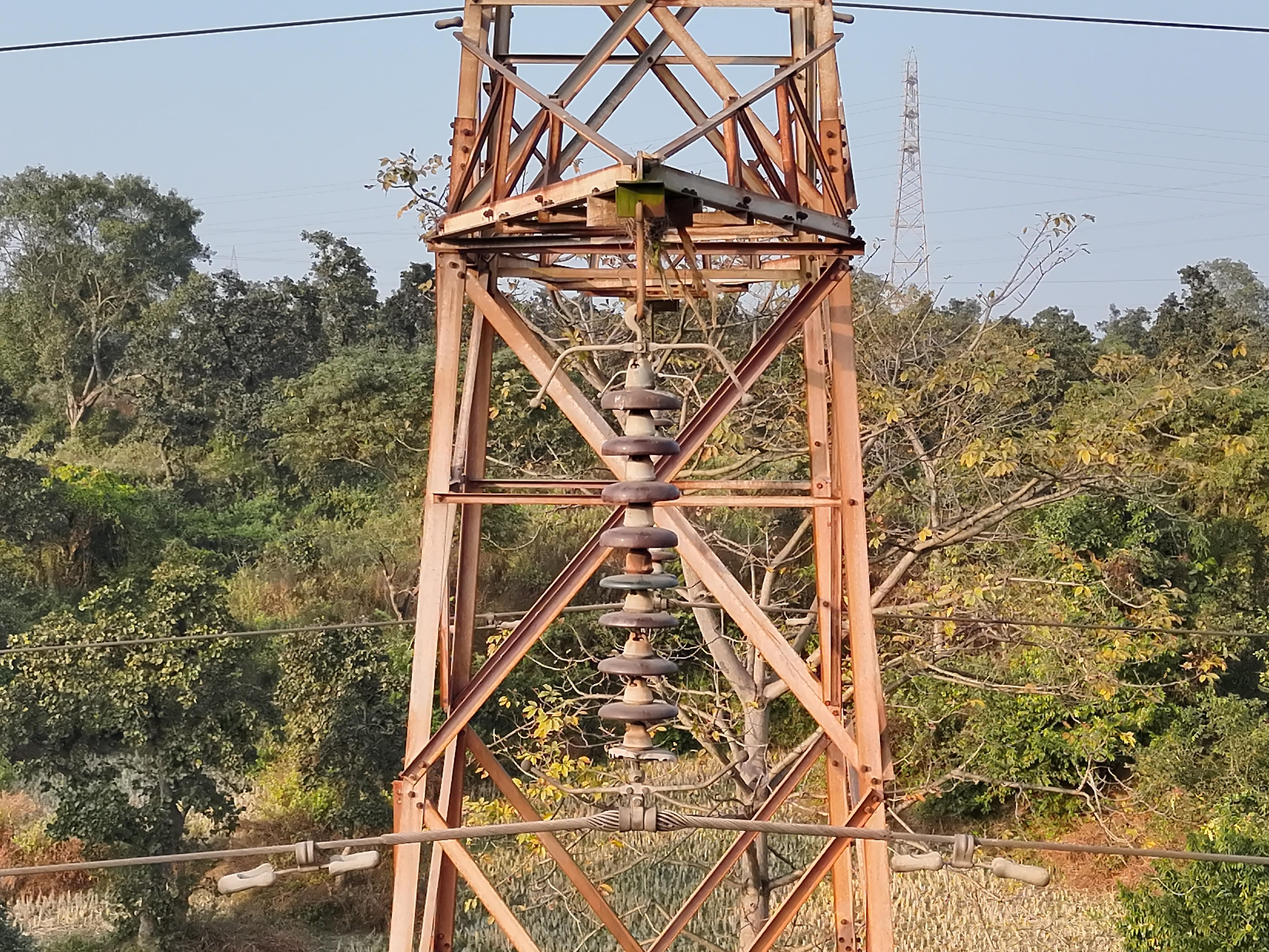broken_insulator: (596, 737, 681, 770)
